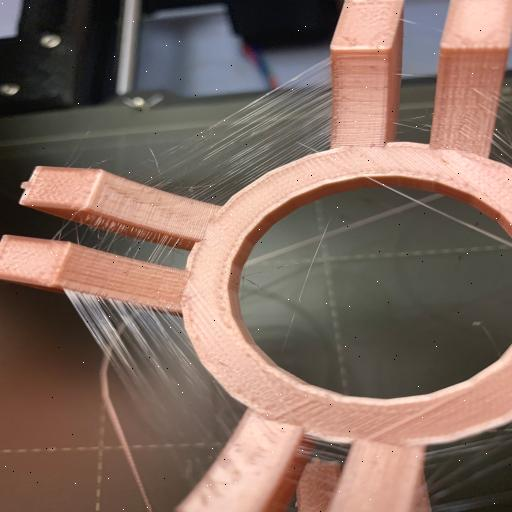stringing: (110, 58, 362, 206), (64, 286, 252, 477), (58, 210, 189, 270)
